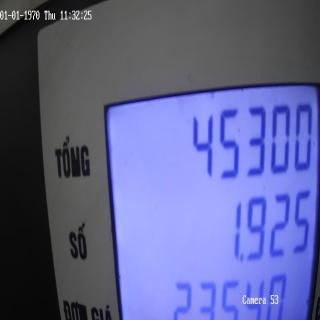screen: (98, 66, 317, 320)
